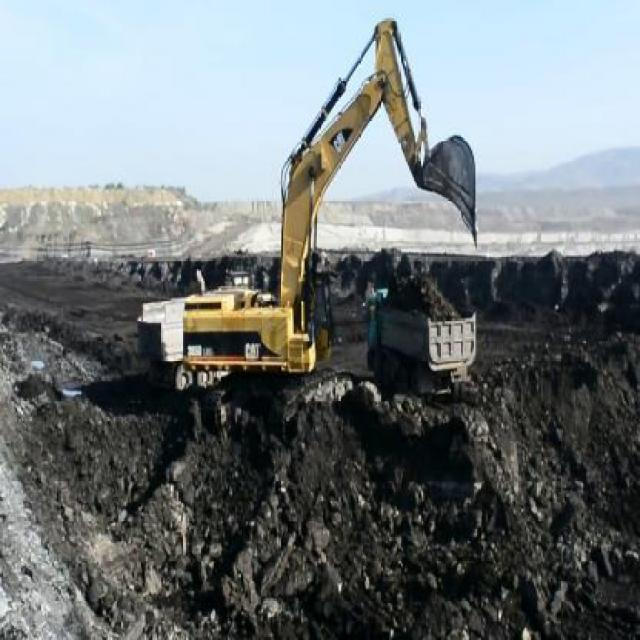Dump Truck: (360, 284, 478, 399)
Excavator: (136, 16, 478, 447)
